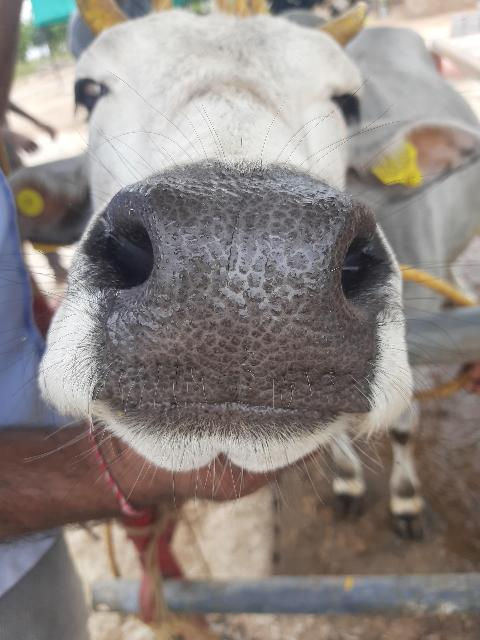Muzzle: (110, 176, 368, 406)
